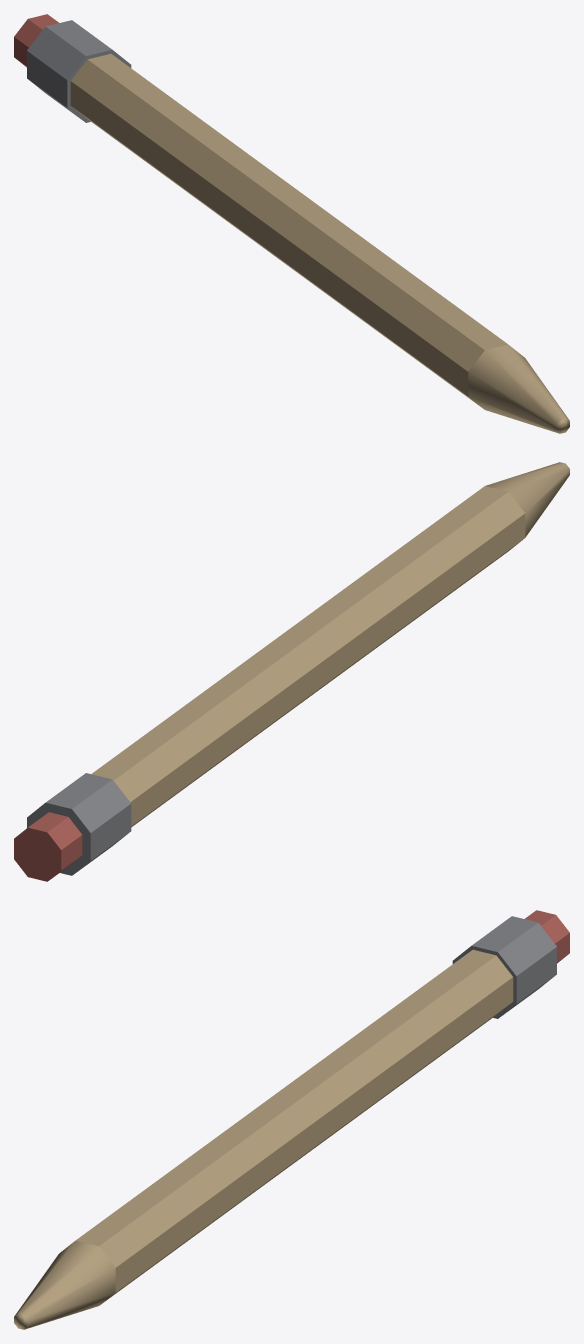
File: pencil.fbx
3 views of the same model, one above another, from view 1: azimuth 30°, elevation 25°; view 2: azimuth 150°, elevation 25°; view 3: azimuth 330°, elevation 25° (orthographic).
Visible parts, largest first — view 1: pencil1; view 2: pencil1; view 3: pencil1.
Boxes of the visible parts, box(x1,y1,x2,y2) form: pencil1: box(14, 14, 569, 433); pencil1: box(14, 462, 569, 881); pencil1: box(14, 910, 569, 1329).
Size of the model in its own units: 2.04 by 2.04 by 29.01.
